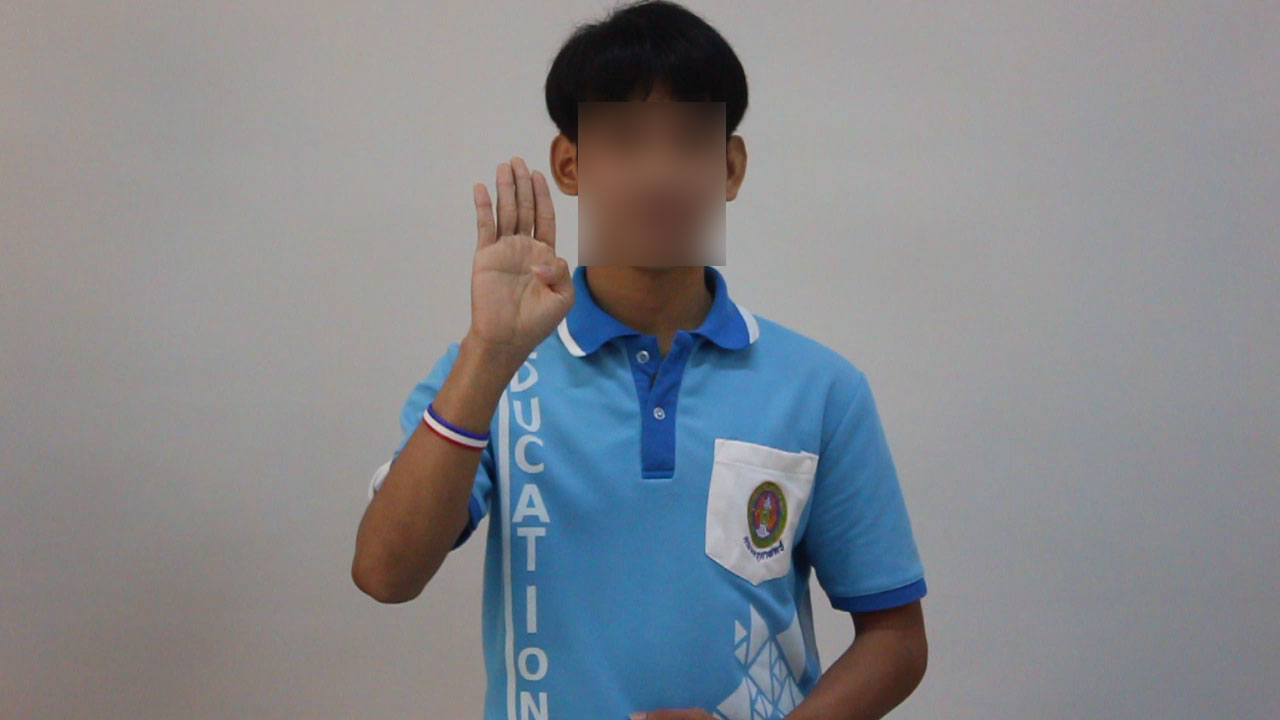bor: (445, 141, 581, 389)
